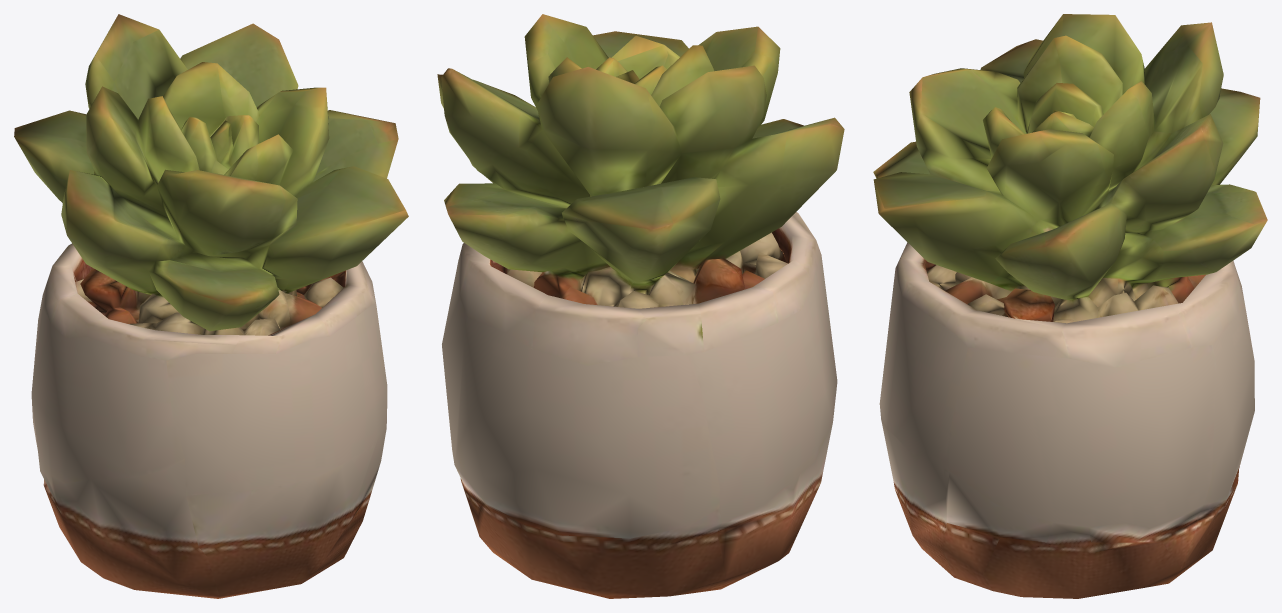
The model's file is plant-small.low.glb.
3 views of the same model, side by side, from view 1: azimuth 30°, elevation 25°; view 2: azimuth 150°, elevation 25°; view 3: azimuth 270°, elevation 25° (orthographic). The views are drawn at different scales.
Parts seen in each view (by area): view 1: tripo_node_fb990ad3-6fc1-434f-bfc6-6bcf948b6287; view 2: tripo_node_fb990ad3-6fc1-434f-bfc6-6bcf948b6287; view 3: tripo_node_fb990ad3-6fc1-434f-bfc6-6bcf948b6287.
Part boxes in pixels (bbox=[...]): tripo_node_fb990ad3-6fc1-434f-bfc6-6bcf948b6287: bbox=[14, 14, 408, 598]; tripo_node_fb990ad3-6fc1-434f-bfc6-6bcf948b6287: bbox=[437, 14, 844, 598]; tripo_node_fb990ad3-6fc1-434f-bfc6-6bcf948b6287: bbox=[873, 14, 1267, 598].
Size of the model in its own units: 0.1491 by 0.1993 by 0.14.
1 material, 1 textured.
